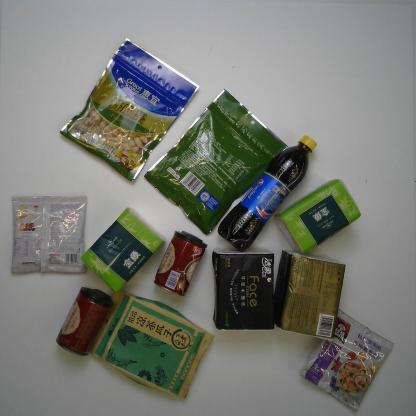Canned Food: (54, 286, 116, 357), (153, 228, 208, 299)
Dried Food: (90, 290, 216, 402)
Dried Fruit: (142, 85, 288, 236), (58, 37, 201, 185)
Drink: (215, 134, 317, 254)
Instant Drink: (298, 307, 396, 413), (10, 196, 88, 275)
Tissue: (78, 206, 166, 296), (272, 177, 362, 255), (275, 249, 347, 340), (210, 246, 276, 331)
